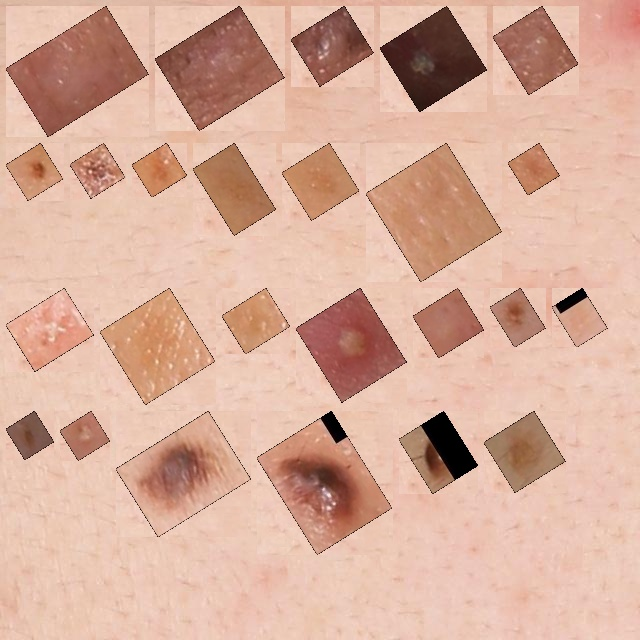hypertrophic_scar: (17, 17, 137, 125), (166, 17, 273, 119), (504, 17, 567, 83), (302, 17, 363, 75), (424, 299, 473, 347)
melasma: (377, 154, 491, 271), (111, 299, 204, 393), (204, 154, 265, 224), (495, 422, 554, 481), (293, 154, 348, 209), (233, 299, 279, 343), (563, 299, 596, 336)
nevus: (268, 422, 381, 543), (127, 422, 240, 526), (410, 422, 467, 482), (17, 154, 52, 189), (501, 299, 534, 336), (81, 154, 114, 187), (143, 154, 176, 186), (17, 422, 43, 449)
pustule: (307, 299, 396, 391), (391, 17, 476, 100), (17, 299, 83, 360), (71, 422, 99, 449)
